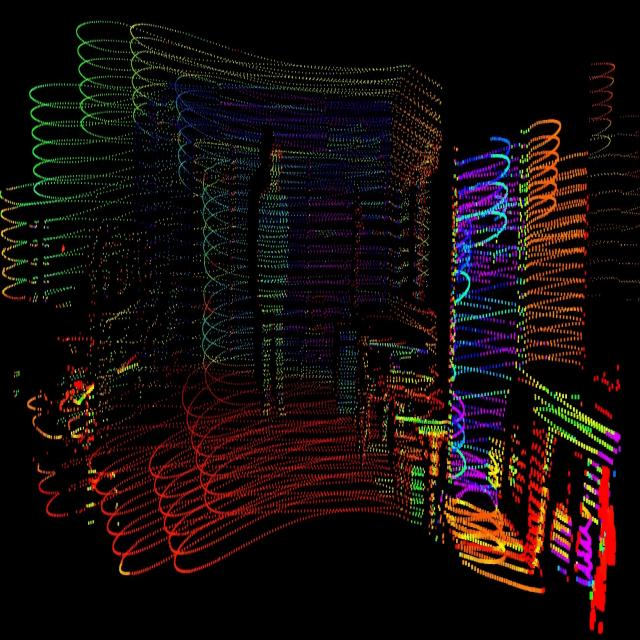human: (255, 137, 298, 426)
